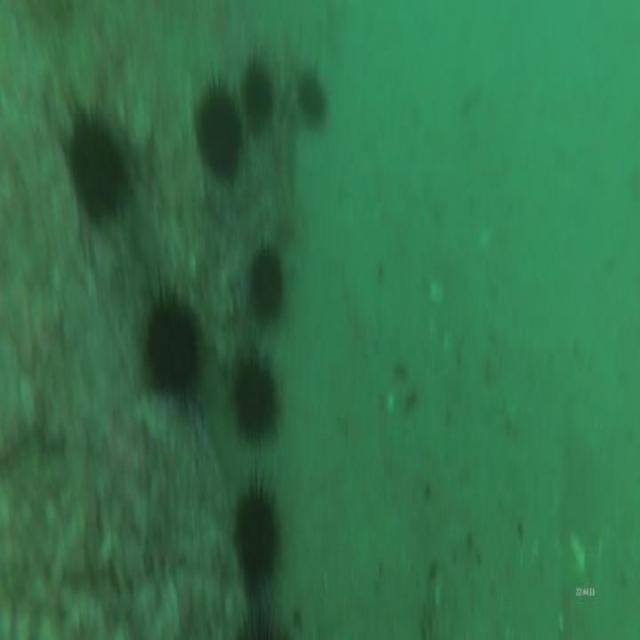echinus: (137, 270, 206, 411), (58, 101, 132, 232), (232, 473, 287, 594), (194, 73, 245, 196), (229, 338, 282, 447), (245, 240, 287, 332), (293, 60, 338, 139), (240, 52, 276, 139), (229, 608, 287, 640)
